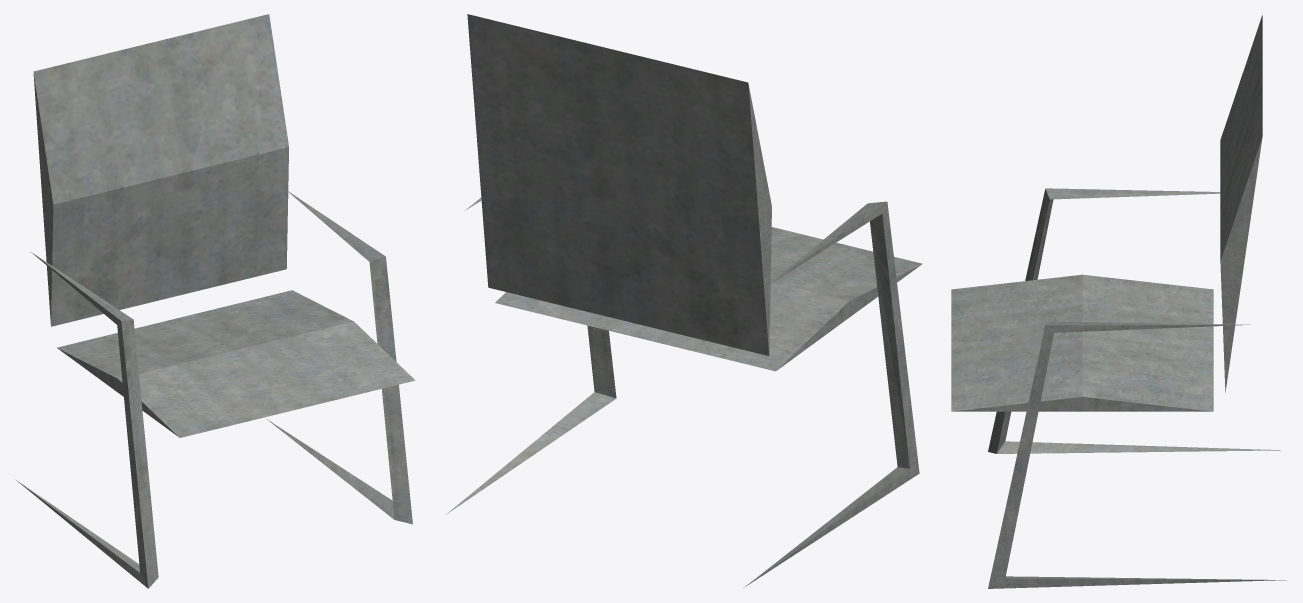
The model's file is frn_all_chair_cafe_s01_l2.fbx.
3 views of the same model, side by side, from view 1: azimuth 30°, elevation 25°; view 2: azimuth 150°, elevation 25°; view 3: azimuth 270°, elevation 25° (orthographic). The views are drawn at different scales.
Visible parts, largest first — view 1: mesh_node; view 2: mesh_node; view 3: mesh_node.
Part boxes in pixels (box(x1,y1,x2,y2)): mesh_node: box(16, 14, 415, 588); mesh_node: box(446, 14, 922, 587); mesh_node: box(951, 15, 1286, 588).
Bounding box in the file's own units: 0.621 × 0.9404 × 0.6452.
